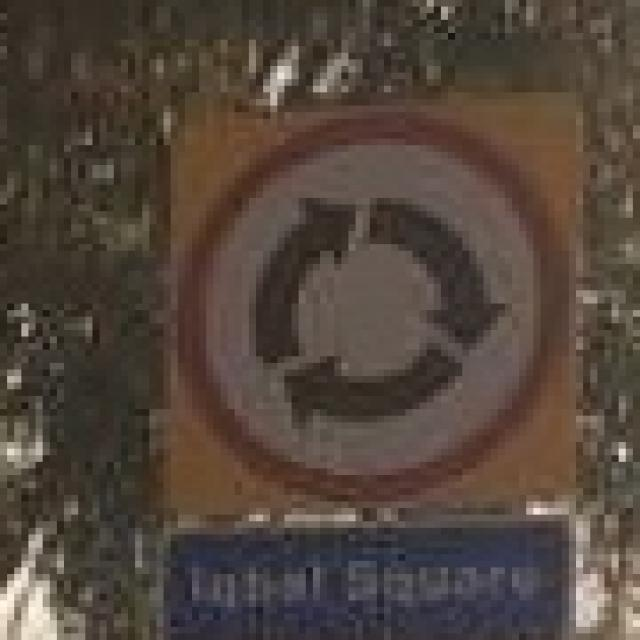roundabout: (171, 116, 573, 513)
